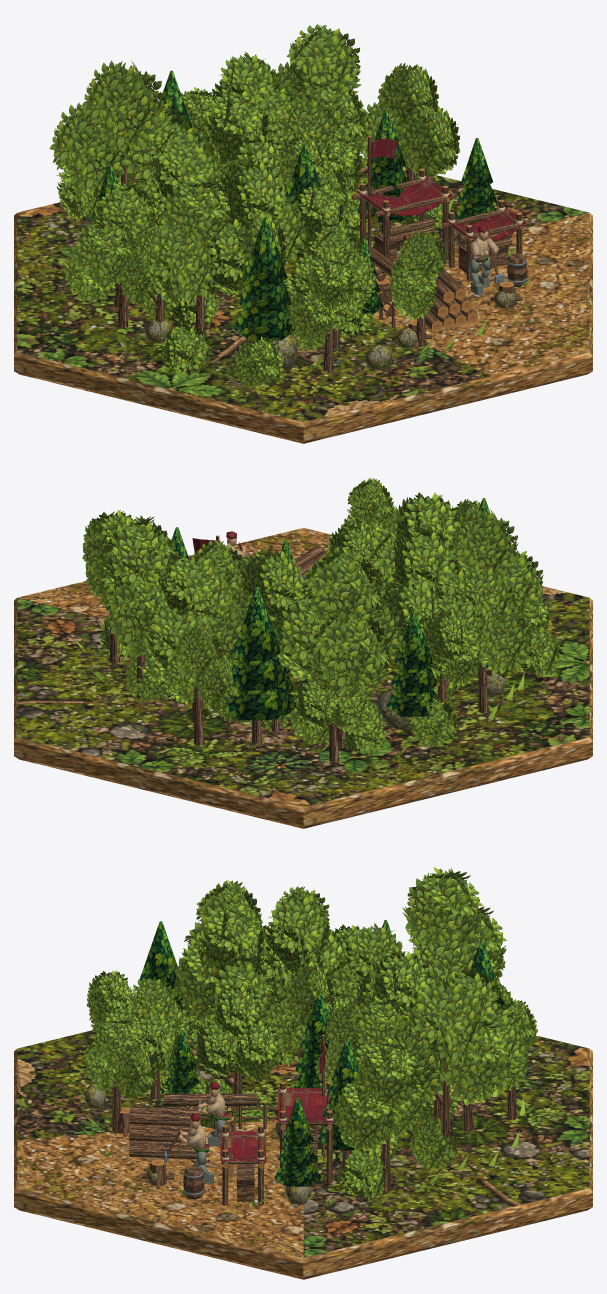
Rendered from forest-camp.fbx.
The picture shows the model from 3 angles, top to bottom: view 1: azimuth 30°, elevation 25°; view 2: azimuth 150°, elevation 25°; view 3: azimuth 270°, elevation 25°; orthographic projection.
Visible parts, largest first — view 1: D01_倒角土层, T01_冠2, T01_冠1, T04_冠2, T15_冠0, T16_冠2, T15_冠2, T08_冠2, T05_冠1, T05_冠2, T11_冠1, T11_冠2 (+45 smaller); view 2: D01_倒角土层, T01_冠1, T01_冠2, T04_冠2, T12_冠2, T04_冠0, T15_冠2, T03_冠2, T08_冠2, T01_冠0, T11_冠1, T11_冠2 (+36 smaller); view 3: D01_倒角土层, T01_冠2, T04_冠2, T12_冠2, T16_冠2, T05_冠2, T04_冠0, T05_冠1, T08_冠2, T16_冠0, T17_冠1, T01_冠0 (+45 smaller).
Part boxes in pixels (x1,y1,x2,y2): D01_倒角土层: (14,157,592,443); T01_冠2: (81,60,166,155); T01_冠1: (49,102,126,197); T04_冠2: (286,24,361,101); T15_冠0: (147,229,217,307); T16_冠2: (216,158,287,235); T15_冠2: (161,177,230,259); T08_冠2: (204,90,271,166); T05_冠1: (399,106,460,178); T05_冠2: (377,63,438,135); T11_冠1: (71,219,131,291); T11_冠2: (94,182,155,252); D01_倒角土层: (14,528,592,828); T01_冠1: (309,612,391,702); T01_冠2: (301,546,384,629); T04_冠2: (101,515,176,602); T12_冠2: (387,526,458,603); T04_冠0: (103,575,168,658); T15_冠2: (449,508,518,576); T03_冠2: (161,558,229,629); T08_冠2: (237,546,304,623); T01_冠0: (274,589,328,680); T11_冠1: (474,606,532,675); T11_冠2: (453,566,512,632); D01_倒角土层: (14,1019,592,1279); T01_冠2: (402,867,482,954); T04_冠2: (410,980,484,1070); T12_冠2: (263,893,331,975); T16_冠2: (199,904,268,979); T05_冠2: (356,1037,419,1112); T04_冠0: (439,1020,507,1105); T05_冠1: (332,1080,396,1152); T08_冠2: (369,950,434,1015); T16_冠0: (174,942,234,1023); T17_冠1: (232,1020,280,1080); T01_冠0: (411,930,476,990).
Size of the model in its own units: 7.9 by 2.85 by 6.84.
Materials: 14 (9 with a texture image).
